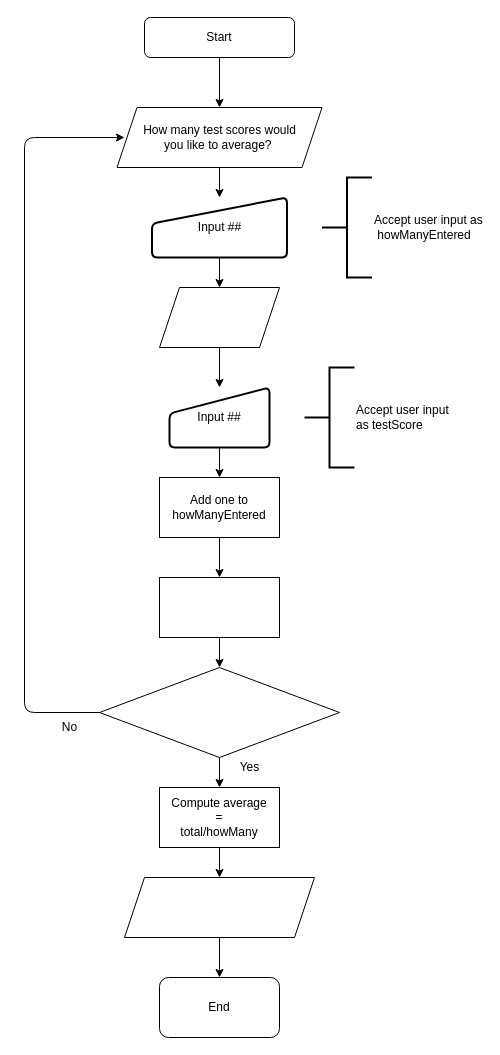
Image size: 500x1055. Some labels were removed from this diagram. Each missing label, with the box of its shape:
Add testScore to total: (158, 576, 280, 638)
Enter test score: (158, 286, 280, 348)
Is howManyEntered < howMany?: (98, 666, 340, 758)
The average for the test scores you entered is ##: (124, 876, 314, 938)
